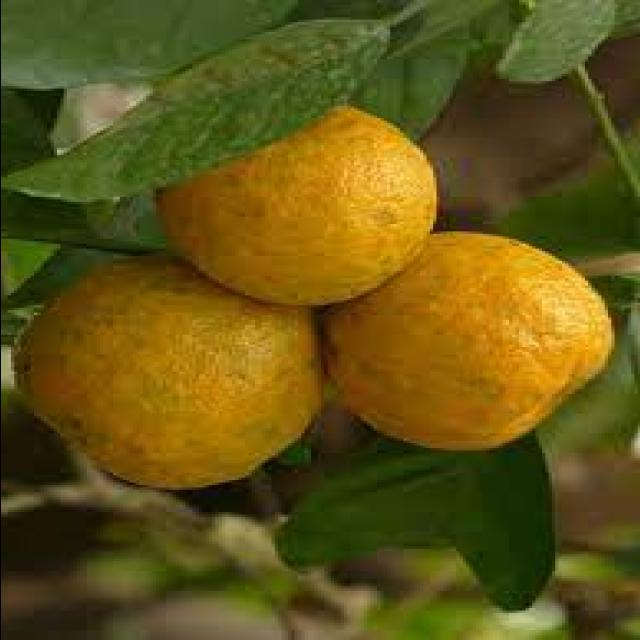orange: (310, 230, 616, 468)
